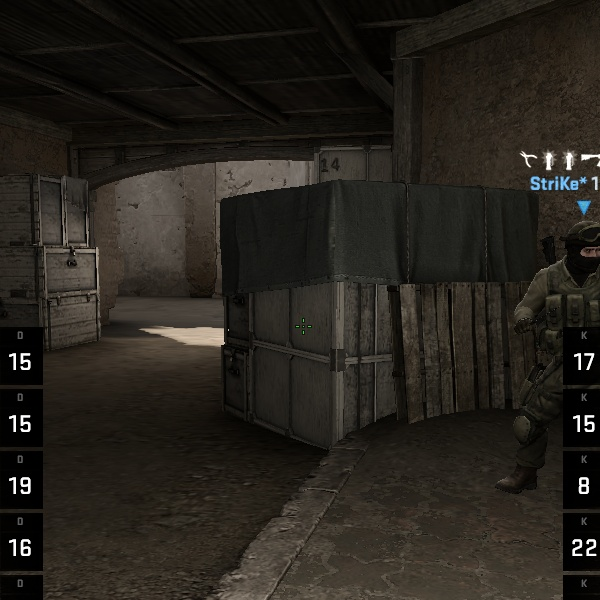ct_head: (564, 218, 600, 280)
